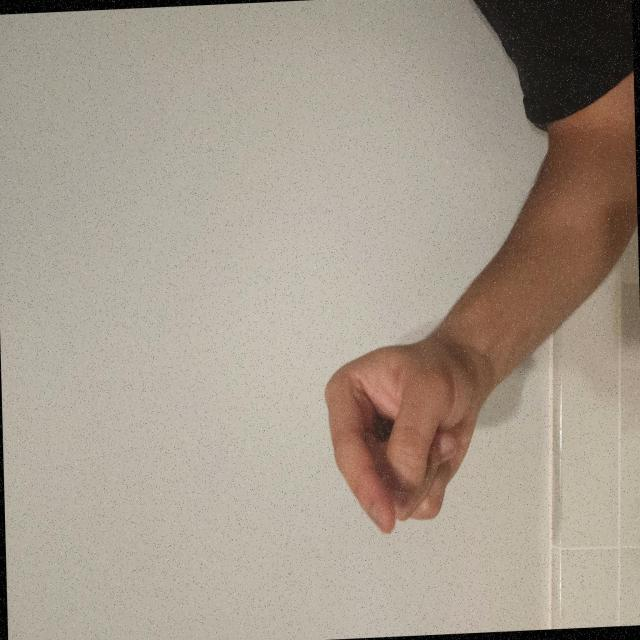Z: (79, 431, 238, 640)
